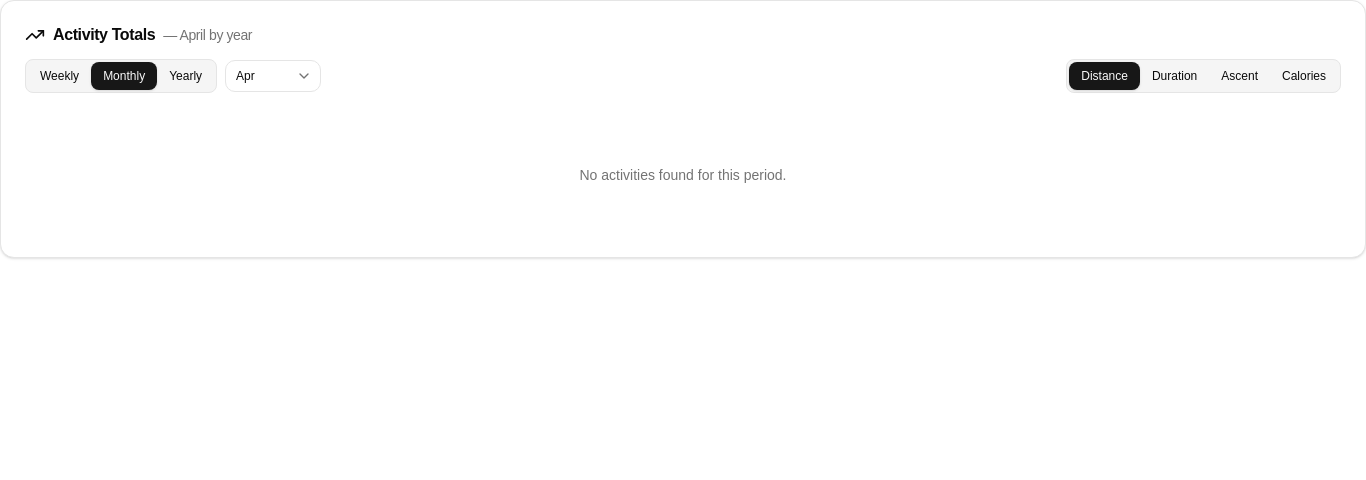
Scenario: GarminActivityTotals › updates the visible month and full-history query range
Click the dropdown named "select month" at (273, 76), box [225,60,321,92]
(page scrolled)
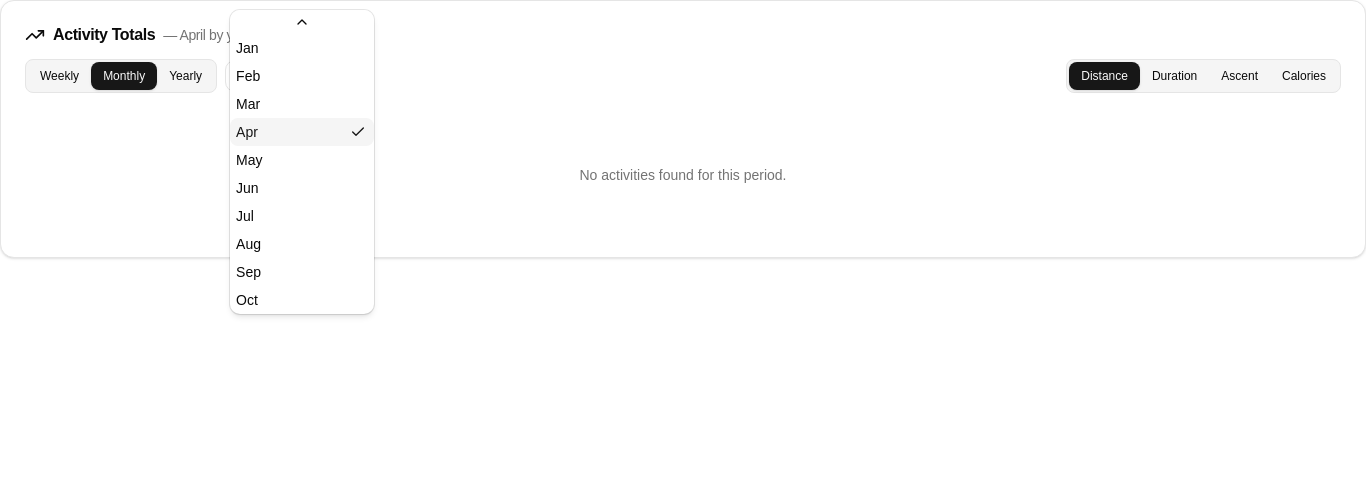
Click the option "Jan" at (247, 48), box [236,40,259,56]
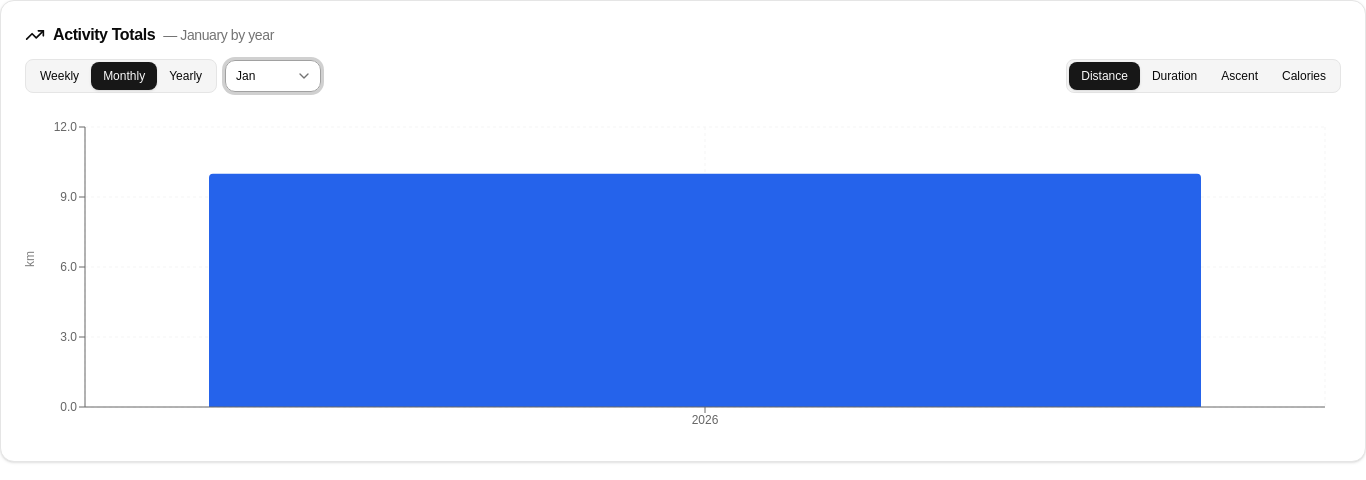
Now the text "— January by year" is shown, box [163,25,274,45]
